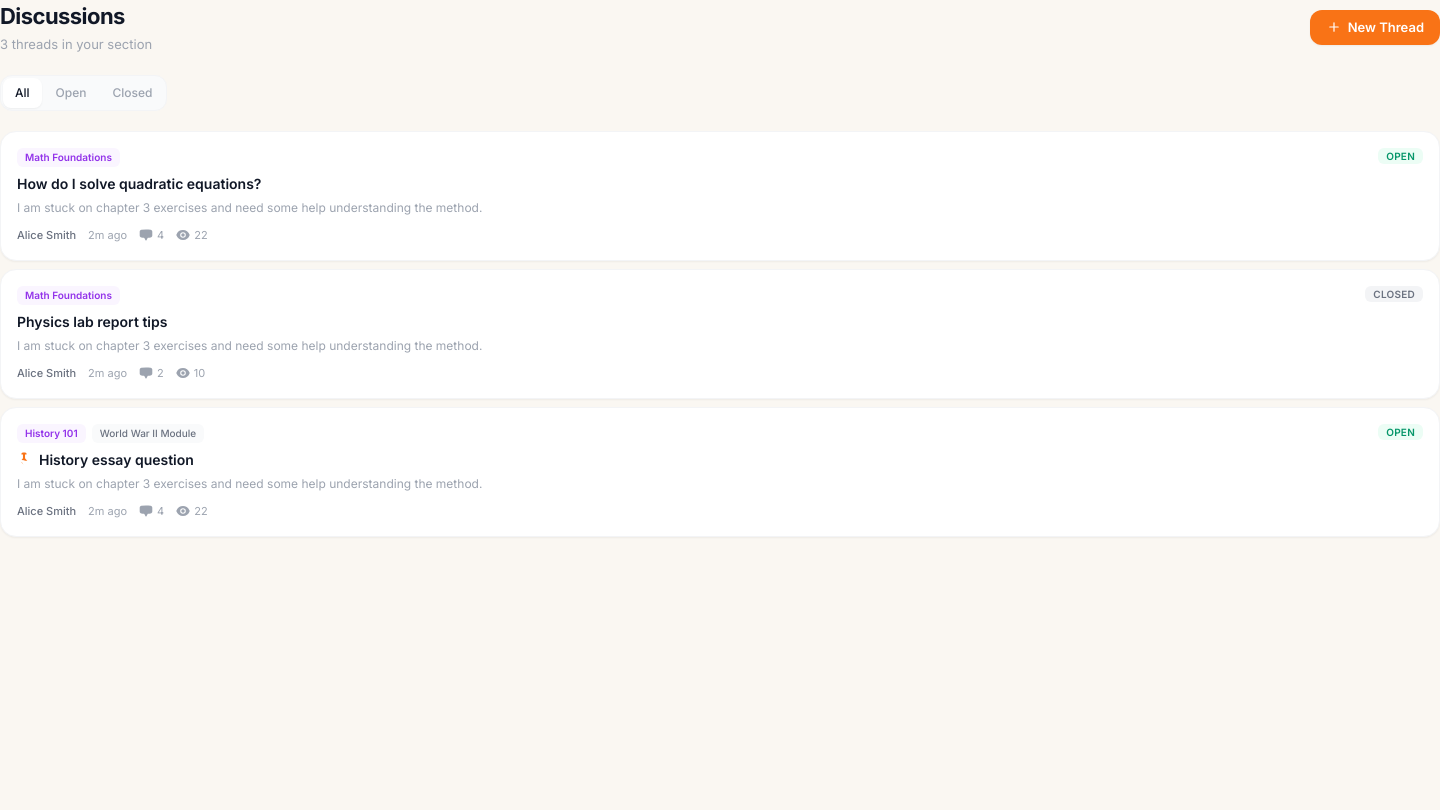
Test: StudentDiscussionPage › closes the modal when Cancel is clicked
Expected: the heading "How do I solve quadratic equations?" is shown, [17,172,262,194]
Click the button "New Thread" at (1375, 27), box [1310,10,1439,45]
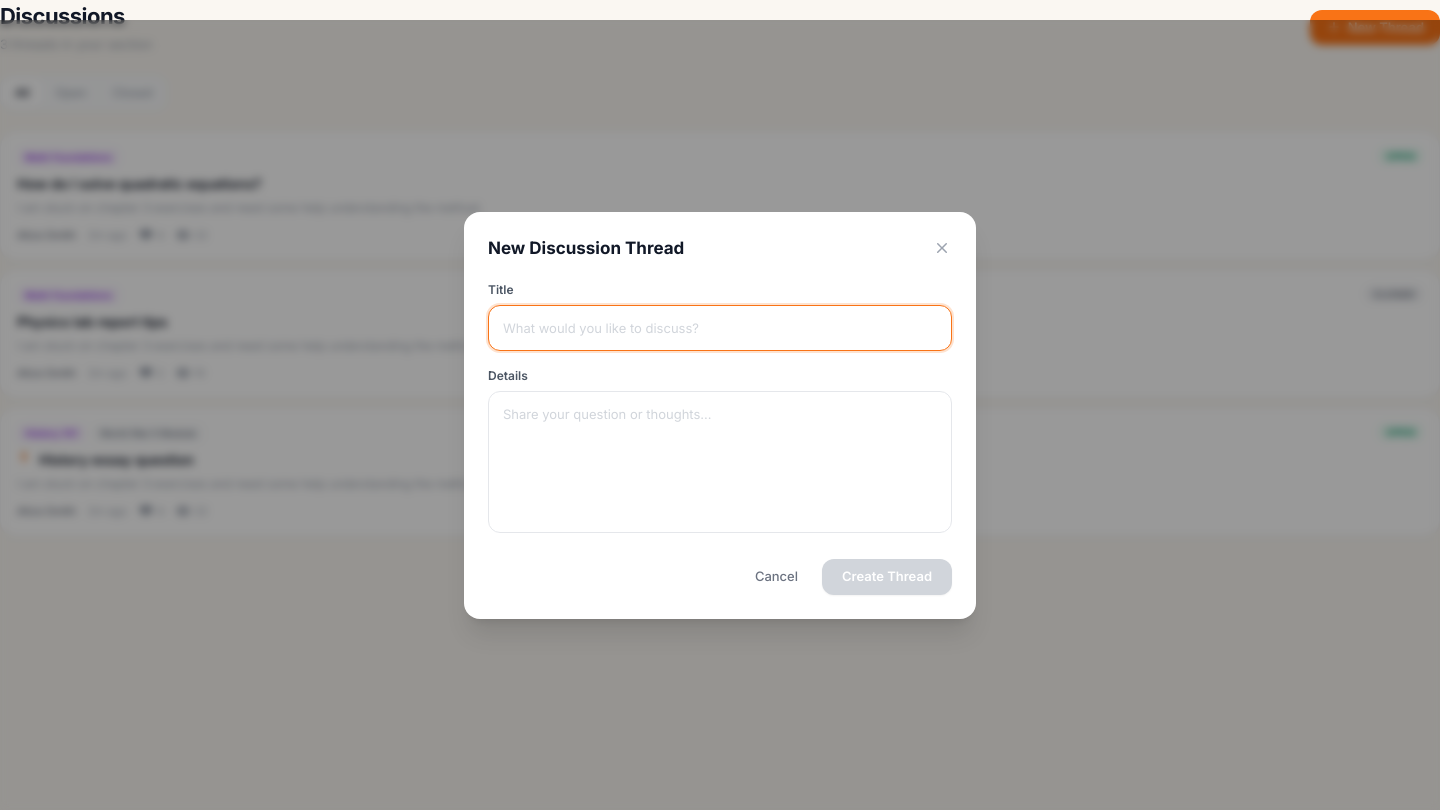
Result: the heading "New Discussion Thread" is shown at [488,236,684,261]
Click the button "Cancel" at (776, 577), box [739,559,814,594]
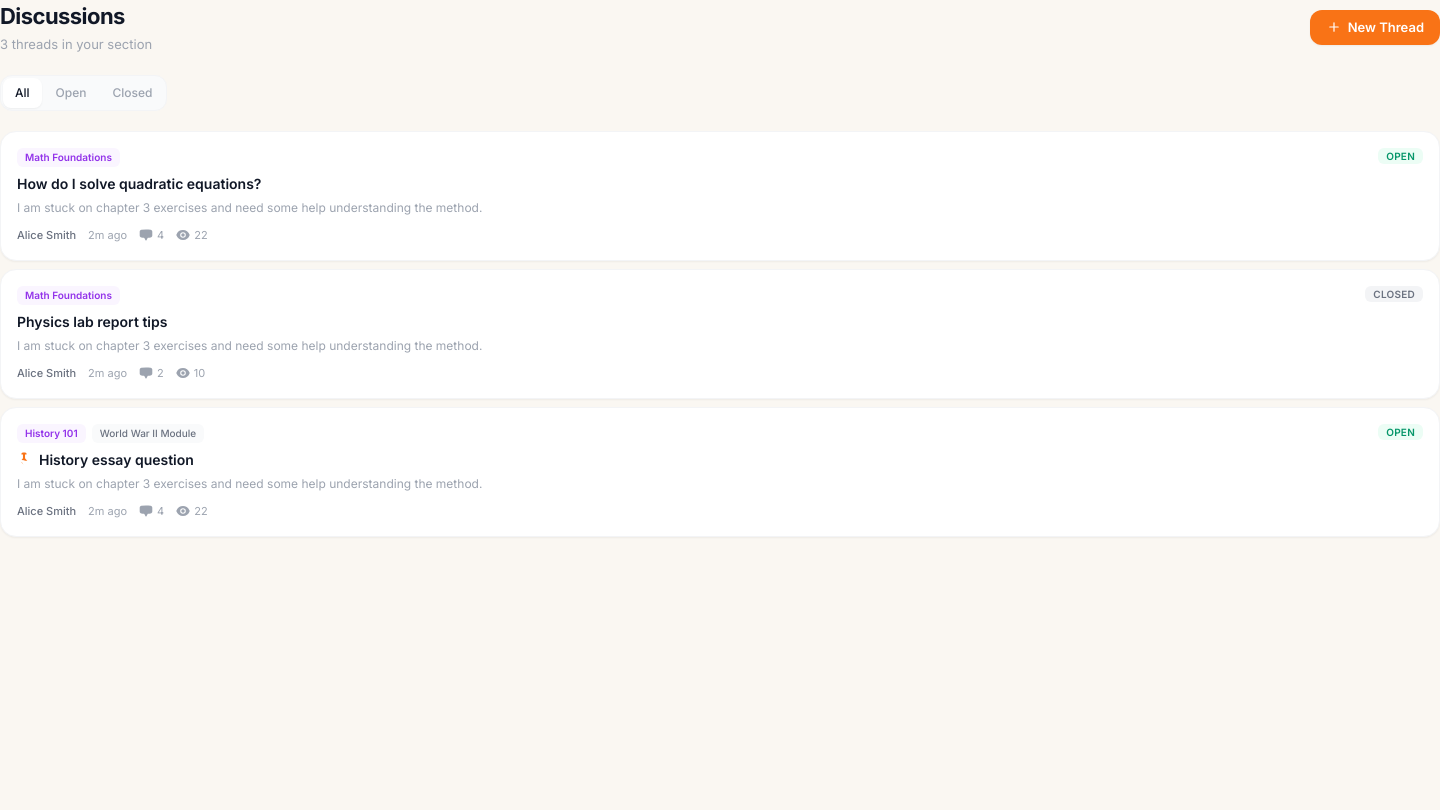
Result: the heading "New Discussion Thread" is gone
